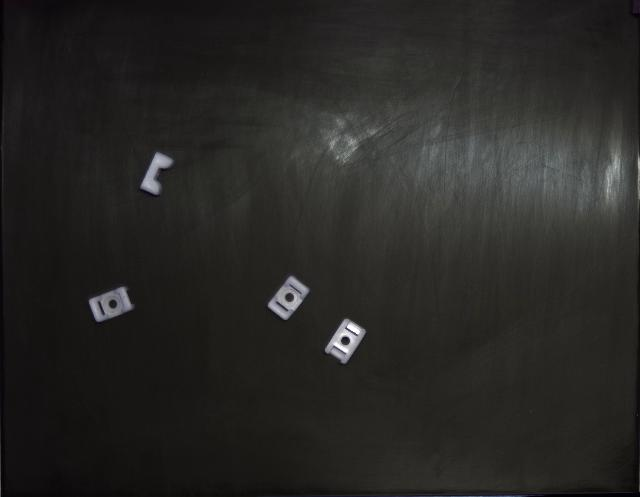first_side: (268, 276, 310, 320), (89, 286, 135, 322)
second_side: (325, 319, 365, 364)
third_side: (140, 152, 175, 195)
